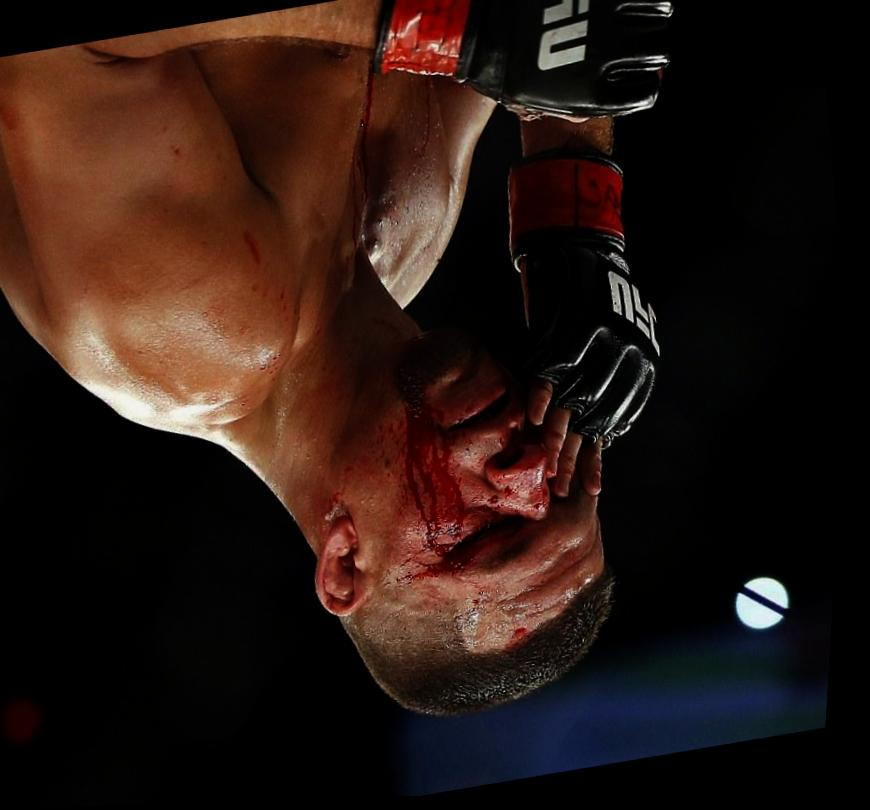Fire: (330, 342, 558, 588), (361, 68, 376, 207), (0, 94, 22, 143), (245, 231, 263, 265), (521, 631, 542, 649)
